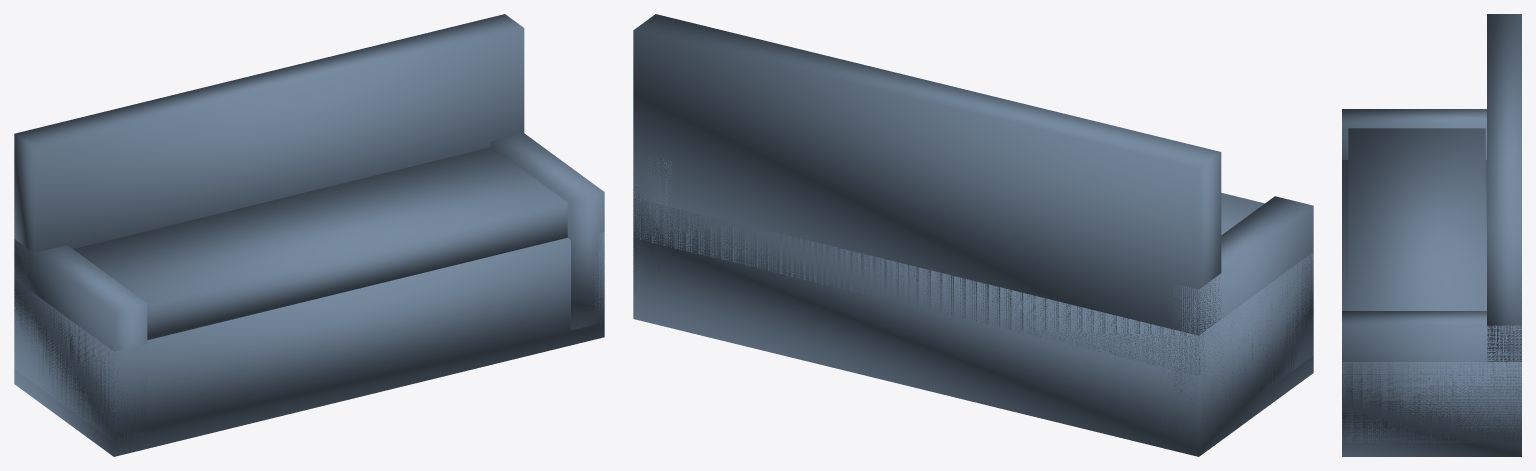
The model's file is sofa.glb.
3 views of the same model, side by side, from view 1: azimuth 30°, elevation 25°; view 2: azimuth 150°, elevation 25°; view 3: azimuth 270°, elevation 25° (orthographic). The views are drawn at different scales.
Parts seen in each view (by area): view 1: world; view 2: world; view 3: world.
Part boxes in pixels (left/top/right/bottom): world: left=14, top=14, right=604, bottom=456; world: left=633, top=14, right=1313, bottom=456; world: left=1342, top=14, right=1521, bottom=456.
Bounding box in the file's own units: 2.05 × 1.03 × 0.72.
